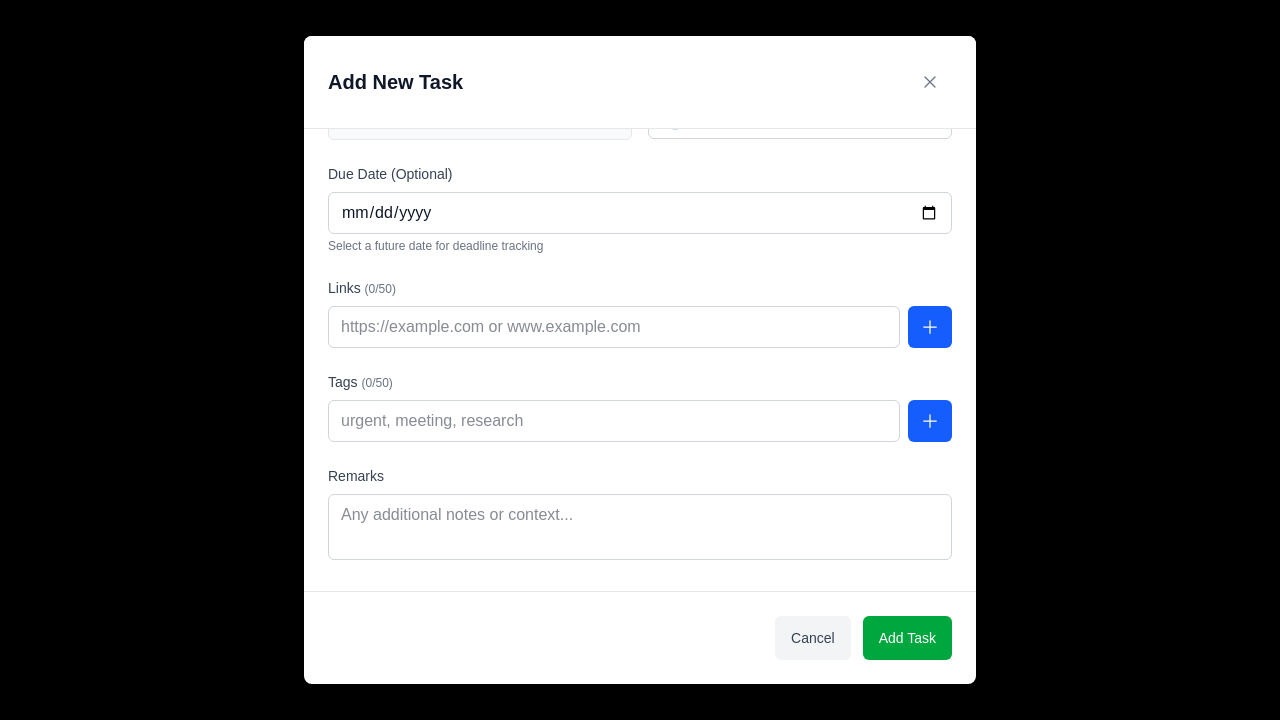
Test: AddTaskModal - Form Validation › Tag Management › removes tag
The image size is (1280, 720).
(page scrolled)
Type "test-tag" into the field with placeholder "urgent, meeting, research" at coordinates (614, 421), box [328,400,900,442]
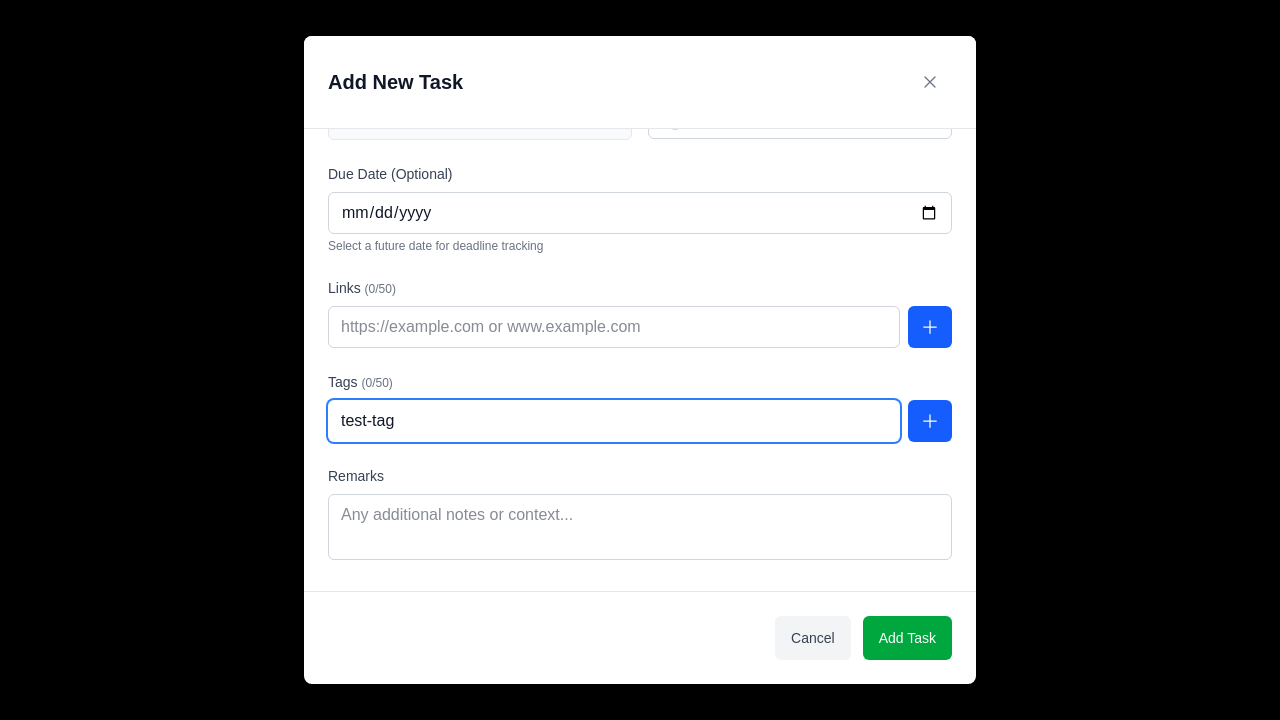
Click the button named "Add tag to task" at coordinates (930, 421), box [908,400,952,442]
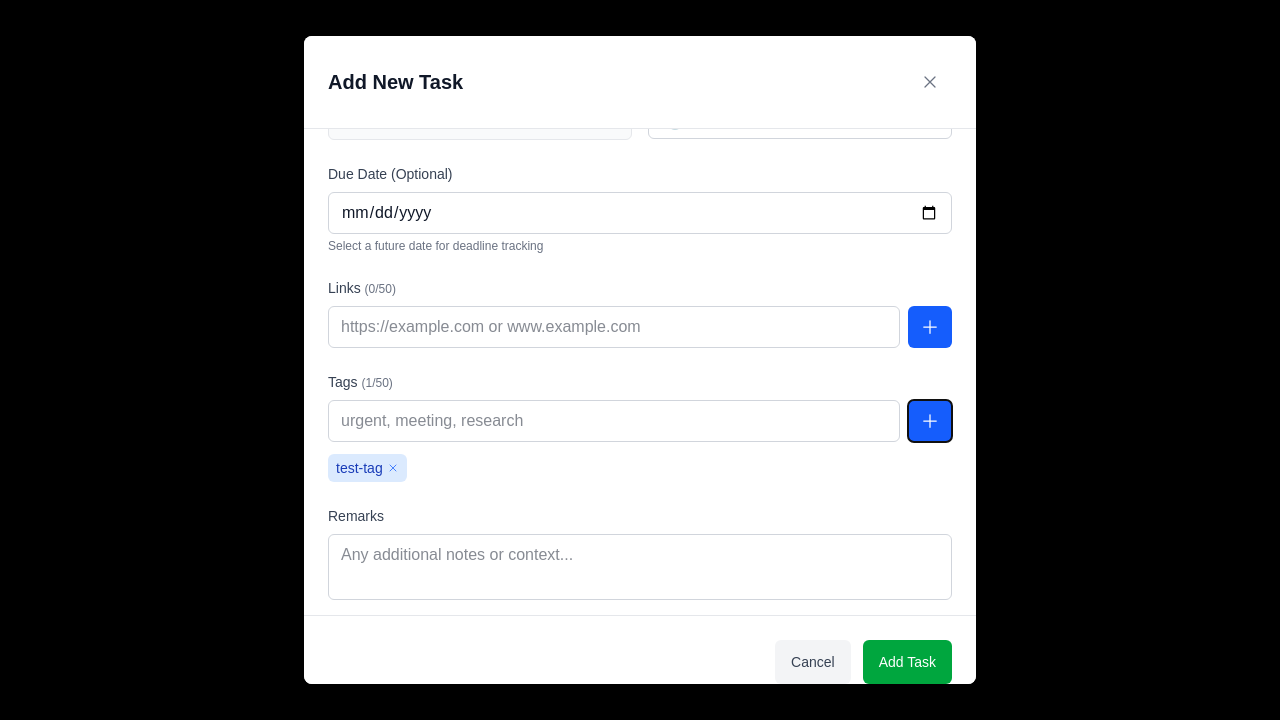
expect the text "test-tag" is shown: met, box [328,454,407,482]
Click the button named "Remove tag test-tag" at coordinates (393, 468), box [387,462,399,474]
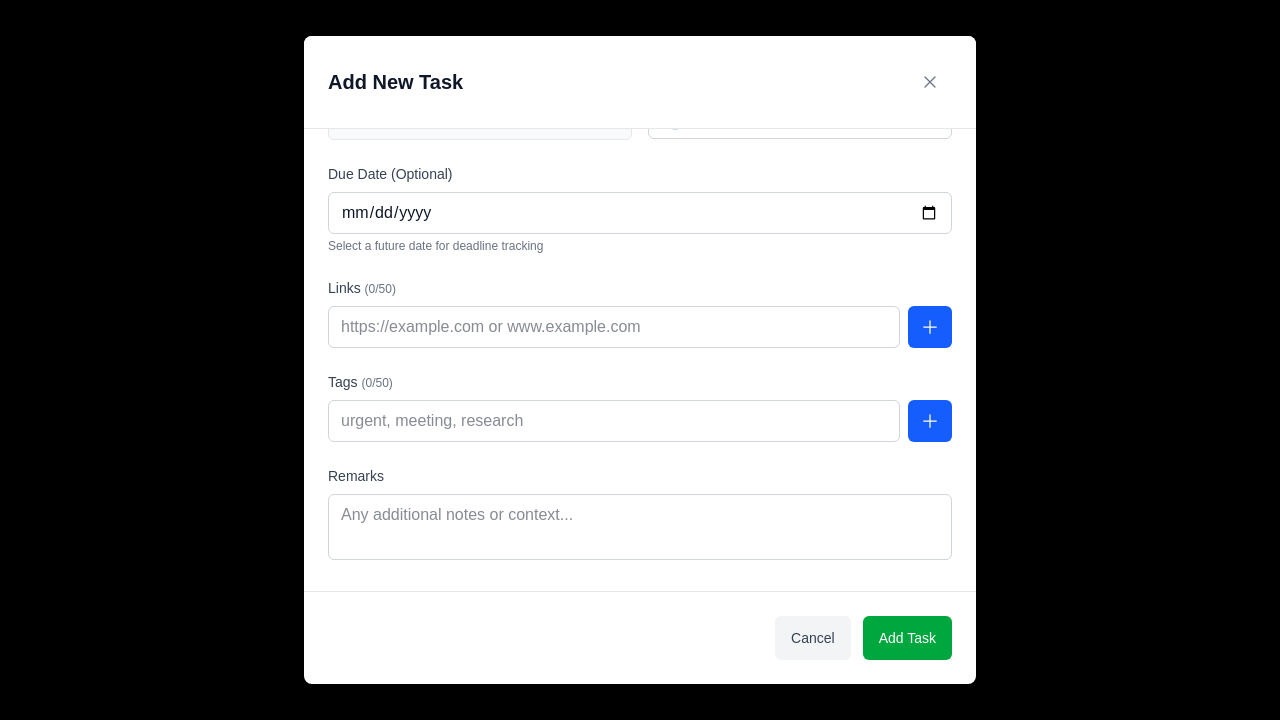
expect the text "test-tag" is gone: met
